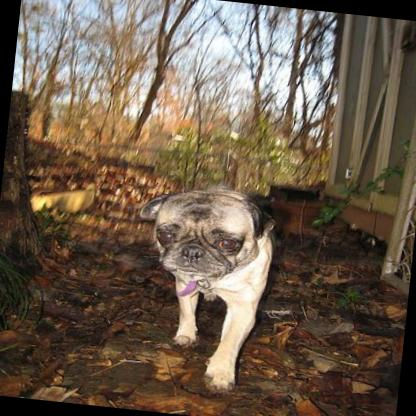pug: (126, 180, 278, 394)
